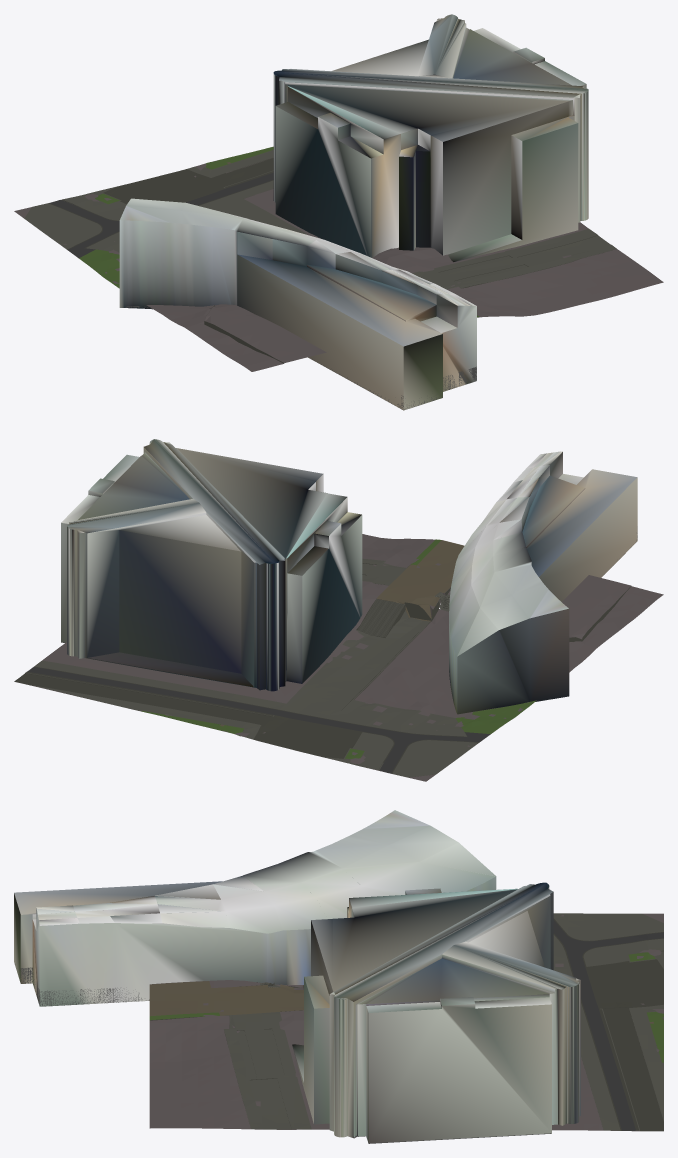
3 views of the same model, one above another, from view 1: azimuth 30°, elevation 25°; view 2: azimuth 150°, elevation 25°; view 3: azimuth 270°, elevation 25° (orthographic). The views are drawn at different scales.
Visible parts, largest first — view 1: c_m07_m03; view 2: c_m07_m03; view 3: c_m07_m03.
Part boxes in pixels (<box>): c_m07_m03: <box>14,14,663,410</box>; c_m07_m03: <box>14,439,663,781</box>; c_m07_m03: <box>14,810,663,1143</box>.
Size of the model in its own units: 141 by 38.83 by 162.
